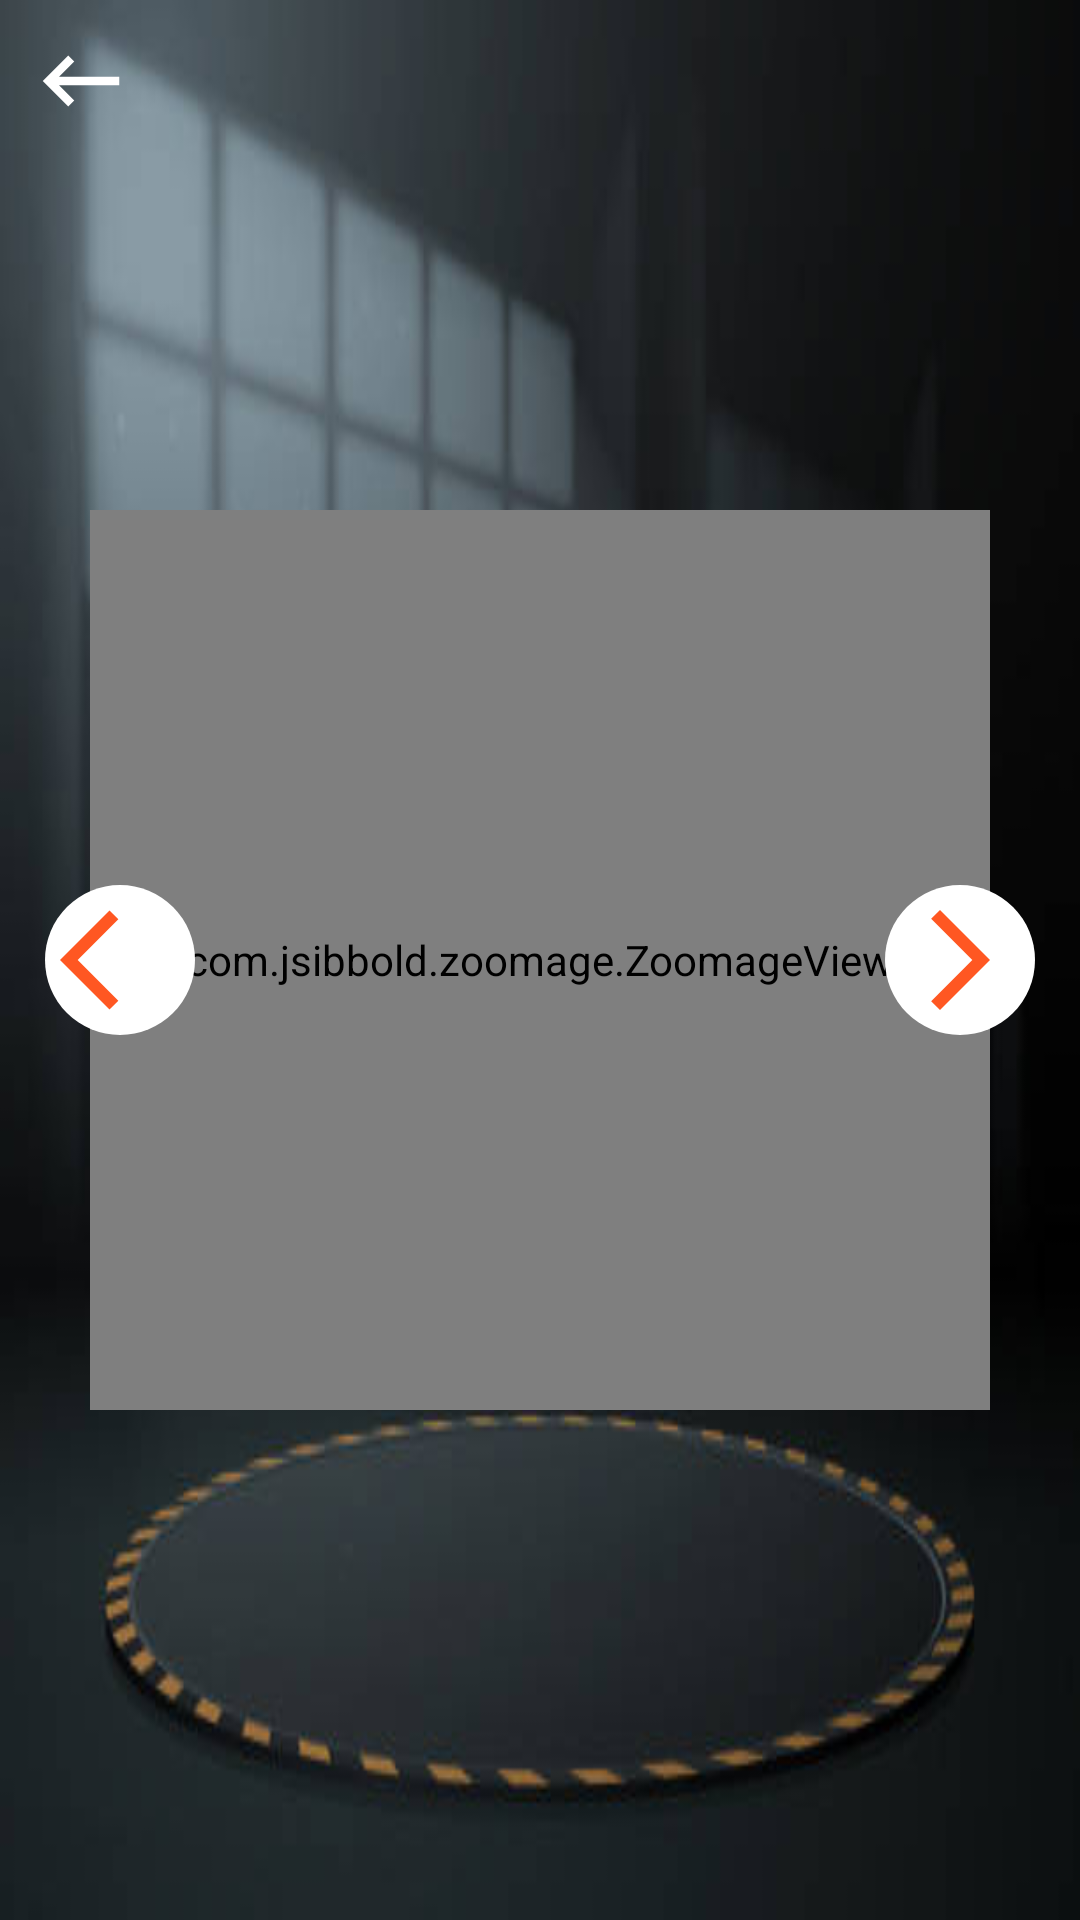

Point at icon controls on the screen. Image size 1080px x 1920px, points as (x=x, y=y).
next: (x=960, y=960)
prev: (x=120, y=960)
